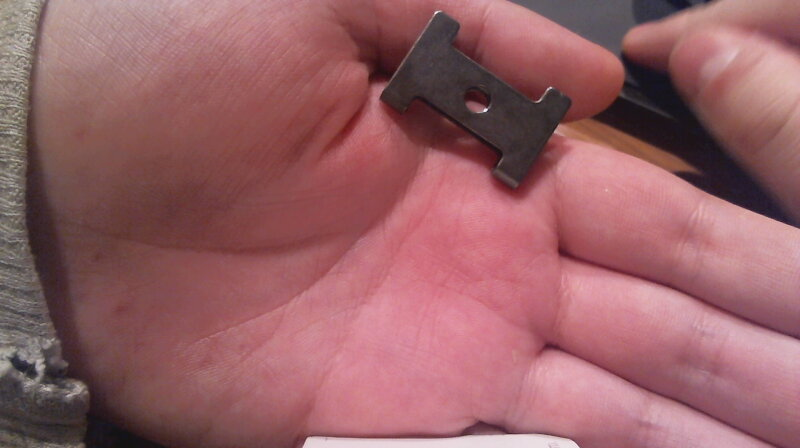O002: (373, 9, 574, 190)
